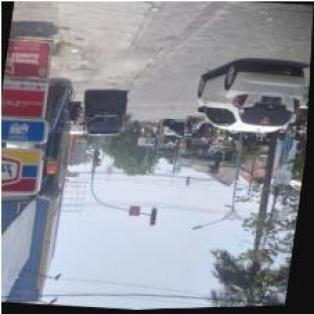Semaforo Rojo: (151, 207, 159, 227), (214, 158, 223, 174), (94, 151, 101, 169)
